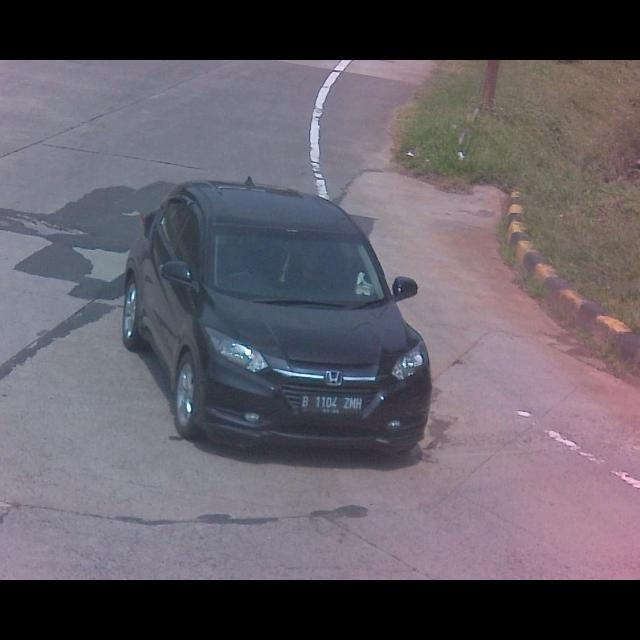plate: (296, 392, 370, 416)
